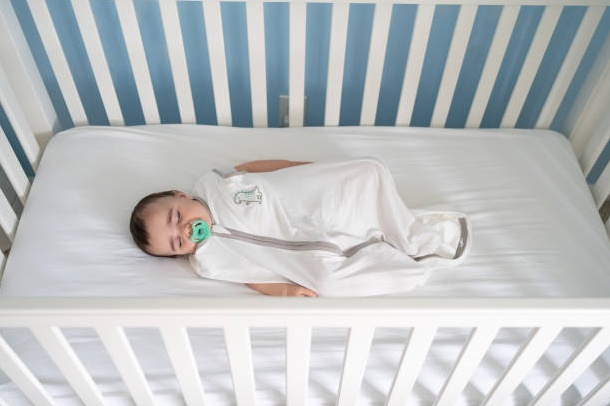baby: (130, 158, 470, 295)
crib: (0, 0, 609, 404)
